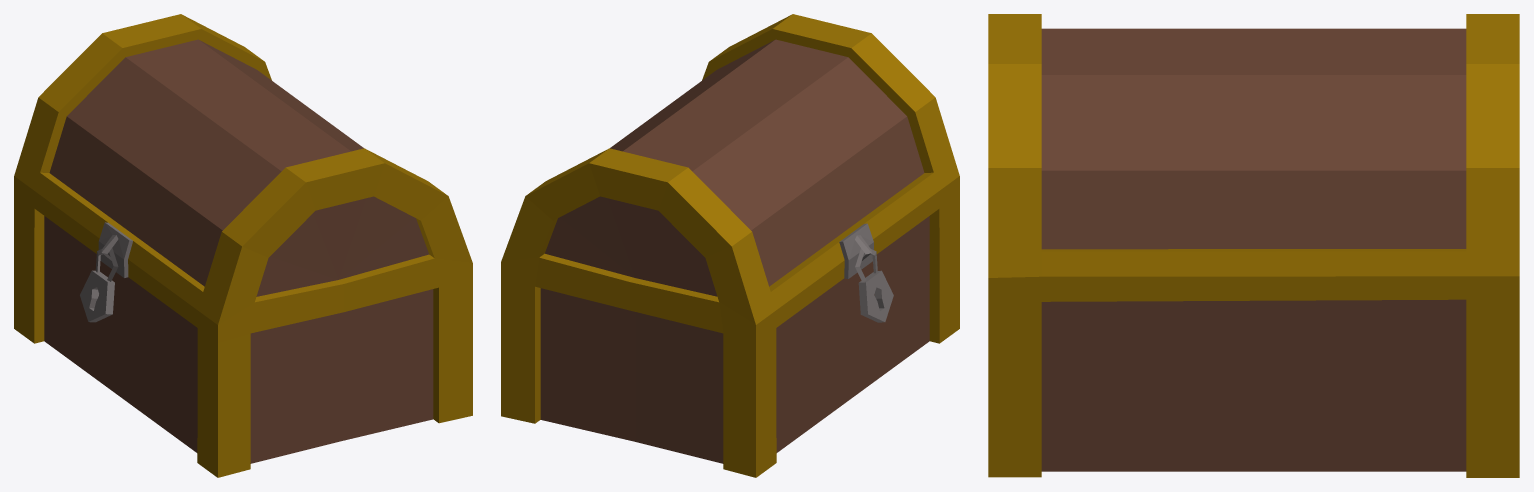
The model's file is Chest.fbx.
The picture shows the model from 3 angles, left to right: view 1: azimuth 30°, elevation 25°; view 2: azimuth 150°, elevation 25°; view 3: azimuth 270°, elevation 25°; orthographic projection. The views are drawn at different scales.
Parts seen in each view (by area): view 1: Cylinder; view 2: Cylinder; view 3: Cylinder.
Boxes of the visible parts, x1,y1,x2,y2 form: Cylinder: [14, 14, 472, 477]; Cylinder: [501, 14, 959, 477]; Cylinder: [988, 14, 1519, 477].
Bounding box in the file's own units: 72.02 × 66.9 × 90.01.
